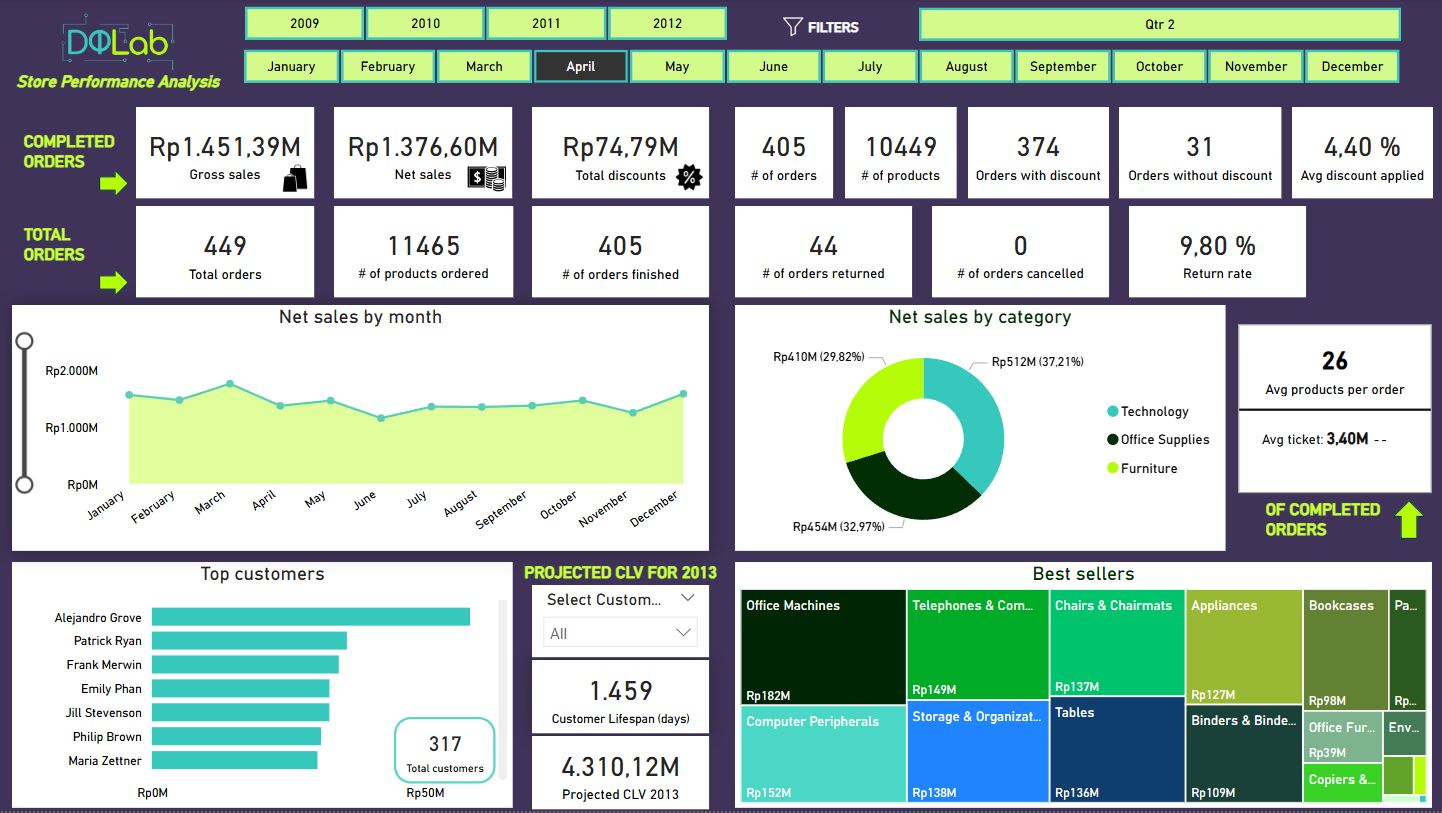

The dashboard page shown, as its layout file describes it:
{"tool":"powerbi","page":{"name":"DQLab Sales Analysis","canvas":[1280,720],"ordinal":0},"visuals":[{"type":"card","fields":{"Values":["clean_data.Net Sales"]},"box":[296.1,95.8,157.8,80.7],"z":0},{"type":"card","fields":{"Values":["clean_data.Suma Descuentos"]},"box":[471.6,95.8,156.9,80.7],"z":1000},{"type":"slicer","fields":{"Values":["Calendar.Date.Variation.Date Hierarchy.Quarter"]},"box":[789.2,0.9,476.9,39],"z":2000},{"type":"slicer","fields":{"Values":["Calendar.Date.Variation.Date Hierarchy.Year"]},"box":[191.5,0,476.9,38.1],"z":3000},{"type":"areaChart","title":"Net sales by month","fields":{"Y":["Sum(clean_data.sales)"],"Category":["Calendar.Date.Variation.Date Hierarchy.Month"]},"box":[10.2,271.4,618.2,218.4],"z":4000},{"type":"card","fields":{"Values":["clean_data.Total Orders"]},"box":[131.1,183.1,146.9,80.9],"z":5000},{"type":"card","fields":{"Values":["clean_data.# of Orders Completed"]},"box":[471.6,182.7,156.9,81.6],"z":6000},{"type":"card","fields":{"Values":["clean_data.# of Orders Returned"]},"box":[651.6,182.7,156.9,81.6],"z":7000},{"type":"card","fields":{"Values":["clean_data.# of Orders Cancelled"]},"box":[826.3,182.7,156.9,81.6],"z":8000},{"type":"card","fields":{"Values":["clean_data.Avg Discount Applied"]},"box":[651.6,95.8,156.9,80.7],"z":9000},{"type":"image","box":[27.9,8.4,154.3,60.4],"z":10000},{"type":"donutChart","title":"Net sales by category","fields":{"Category":["clean_data.product_category"],"Y":["Sum(clean_data.sales)"]},"box":[651.6,271.4,435,218.4],"z":11000},{"type":"treemap","title":"Best sellers","fields":{"Group":["clean_data.product_sub_category"],"Values":["Sum(clean_data.sales)"]},"box":[651.6,499.2,618.2,218.4],"z":12000},{"type":"clusteredBarChart","title":"Top customers","fields":{"Category":["clean_data.customer"],"Y":["Sum(clean_data.sales)"]},"box":[10.2,499.2,444.3,218.4],"z":13000},{"type":"cardVisual","fields":{"Data":["clean_data.Product Ticket Medio"]},"box":[1098.7,304.9,171,151.5],"z":14000},{"type":"card","fields":{"Values":["clean_data.Total Products Ordered"]},"box":[296.5,183.1,158,80.9],"z":15000},{"type":"card","fields":{"Values":["clean_data.gross_sales"]},"box":[131.1,95.8,147.2,80.7],"z":16000},{"type":"image","box":[414.6,136.6,39,44.6],"z":17000},{"type":"image","box":[593.1,141.3,35.3,34.4],"z":18000},{"type":"image","box":[236,178.4,42.8,47.3],"z":19000},{"type":"slicer","fields":{"Values":["Calendar.Date.Variation.Date Hierarchy.Month"]},"box":[191,38.2,1074.4,41.8],"z":20000},{"type":"textbox","box":[689.6,10.9,98.3,42.8],"z":21000},{"type":"card","fields":{"Values":["clean_data.Discount Orders"]},"box":[826.3,95.8,156.9,80.7],"z":22000},{"type":"image","box":[685.9,10.9,33.7,28.2],"z":23000},{"type":"card","fields":{"Values":["clean_data.No Discount Orders"]},"box":[1001.1,95.7,157.1,80.9],"z":24000},{"type":"card","fields":{"Values":["clean_data.Return Rate"]},"box":[1001.1,183.1,157.1,80.9],"z":25000},{"type":"card","fields":{"Values":["clean_data.Avg Customer Lifespan"]},"box":[471.3,586.6,157.1,64.1],"z":26000},{"type":"card","fields":{"Values":["clean_data.CLV"]},"box":[471.3,653.5,157.1,64.1],"z":27000},{"type":"textbox","box":[0,59.5,209.2,40.9],"z":28000},{"type":"slicer","fields":{"Values":["clean_data.customer"]},"box":[471.3,519.6,157.1,64.1],"z":29000},{"type":"textbox","box":[451.8,495.5,196.1,40.9],"z":30000}]}

Visuals, with their boxes in screenshot pixels (x1, y1, x2, y2), scaled from the page's 1280x720 canvas onto the 1442x813 screenshot:
card - clean_data.Net Sales: (334, 108, 511, 199)
card - clean_data.Suma Descuentos: (531, 108, 708, 199)
slicer - Calendar.Date.Variation.Date Hierarchy.Quarter: (889, 1, 1426, 45)
slicer - Calendar.Date.Variation.Date Hierarchy.Year: (216, 0, 753, 43)
"Net sales by month" areaChart: (11, 306, 708, 553)
card - clean_data.Total Orders: (148, 207, 313, 298)
card - clean_data.# of Orders Completed: (531, 206, 708, 298)
card - clean_data.# of Orders Returned: (734, 206, 911, 298)
card - clean_data.# of Orders Cancelled: (931, 206, 1108, 298)
card - clean_data.Avg Discount Applied: (734, 108, 911, 199)
image: (31, 9, 205, 78)
"Net sales by category" donutChart: (734, 306, 1224, 553)
"Best sellers" treemap: (734, 564, 1431, 810)
"Top customers" clusteredBarChart: (11, 564, 512, 810)
cardVisual - clean_data.Product Ticket Medio: (1238, 344, 1430, 515)
card - clean_data.Total Products Ordered: (334, 207, 512, 298)
card - clean_data.gross_sales: (148, 108, 314, 199)
image: (467, 154, 511, 205)
image: (668, 160, 708, 198)
image: (266, 201, 314, 255)
slicer - Calendar.Date.Variation.Date Hierarchy.Month: (215, 43, 1426, 90)
textbox: (777, 12, 888, 61)
card - clean_data.Discount Orders: (931, 108, 1108, 199)
image: (773, 12, 811, 44)
card - clean_data.No Discount Orders: (1128, 108, 1305, 199)
card - clean_data.Return Rate: (1128, 207, 1305, 298)
card - clean_data.Avg Customer Lifespan: (531, 662, 708, 735)
card - clean_data.CLV: (531, 738, 708, 810)
textbox: (0, 67, 236, 113)
slicer - clean_data.customer: (531, 587, 708, 659)
textbox: (509, 560, 730, 606)
